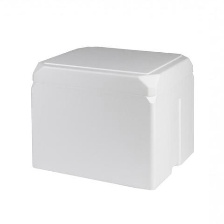foam_box: (24, 41, 200, 193)
